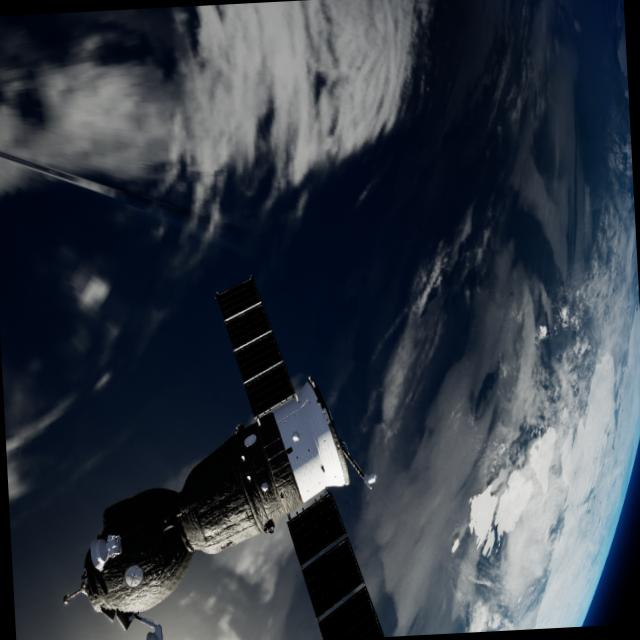Satellites revolving around earth: (44, 264, 386, 638)
